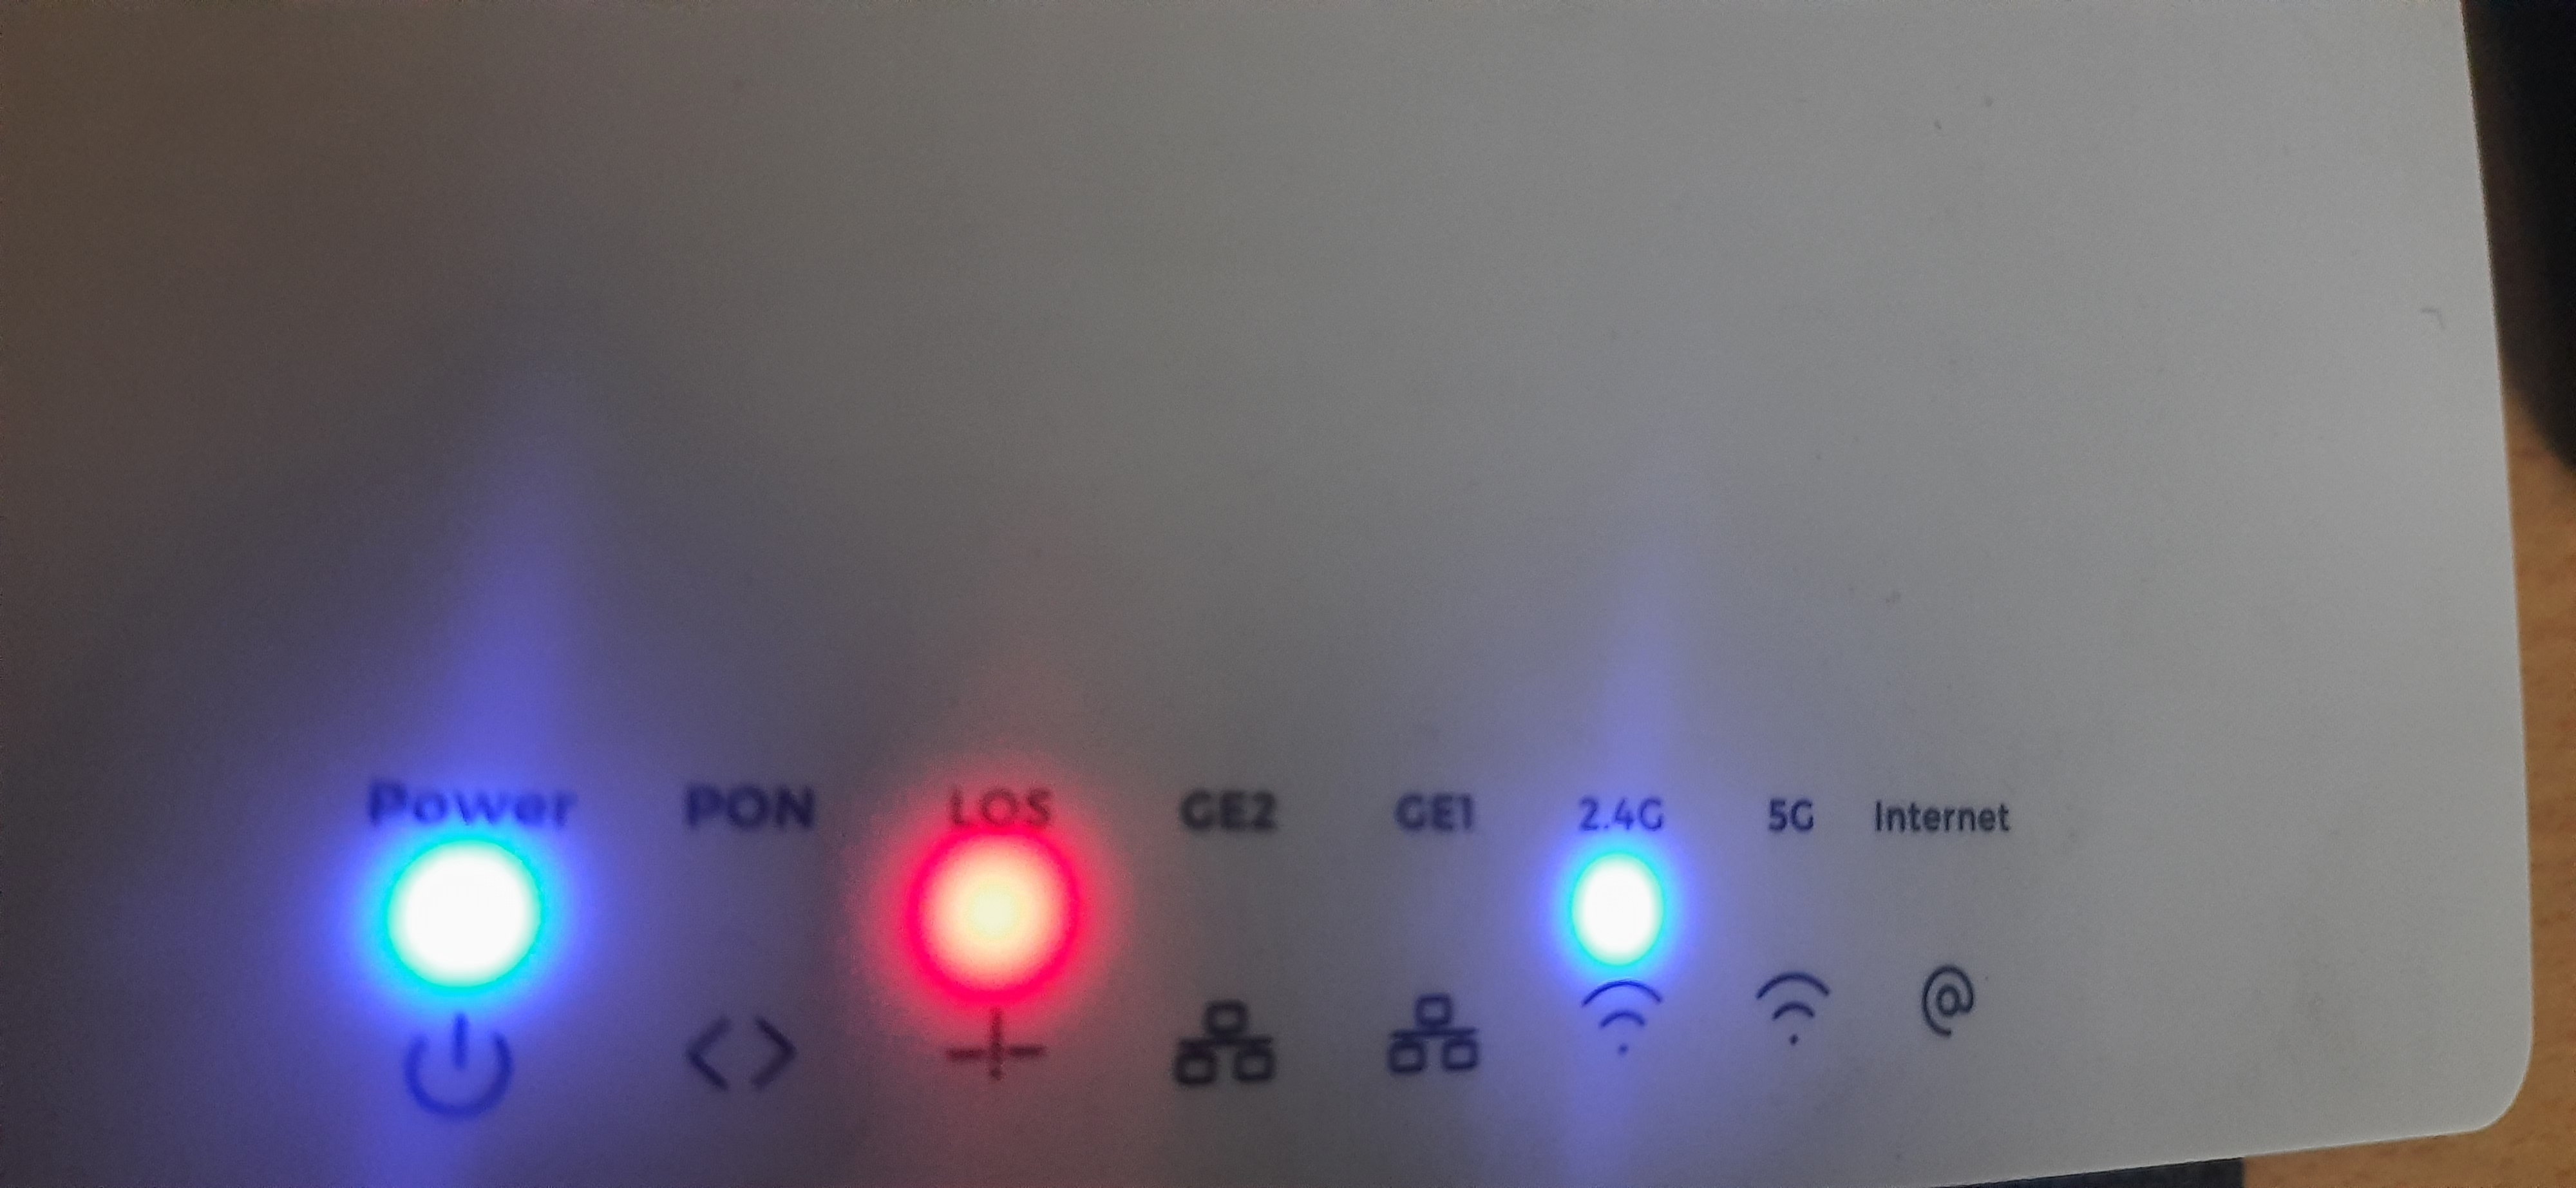LOSConnectionIssue: (844, 743, 1137, 1126)
